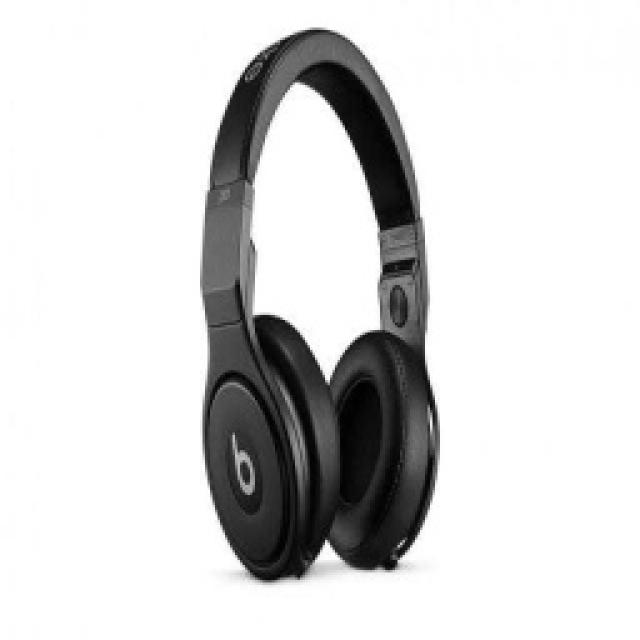headphones: (198, 25, 440, 580)
